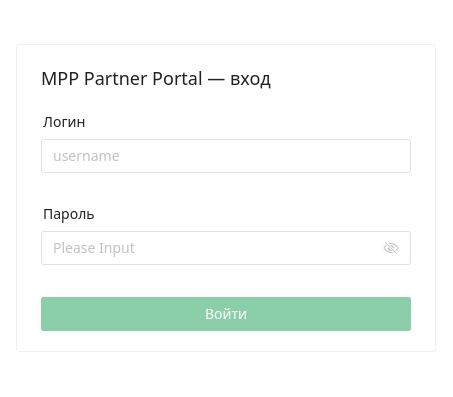
Scenario: LoginView › показывает ошибку и не сохраняет токен при неверных кредах
In the field with placeholder "username": (226, 156) [53, 139, 399, 173], type "acme-bob"
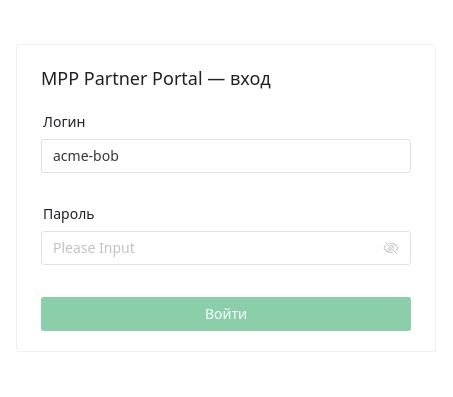
In the password field: (216, 248) [53, 231, 379, 265], type "wrong"
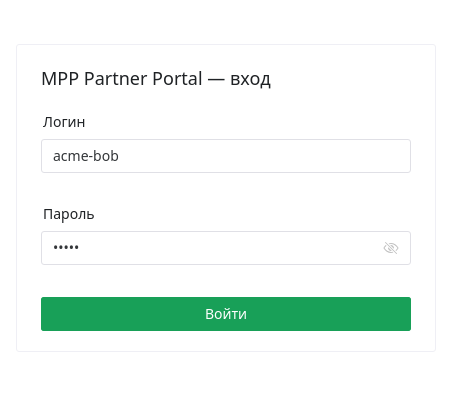
Click the button "Войти": click(226, 314) [41, 297, 411, 331]
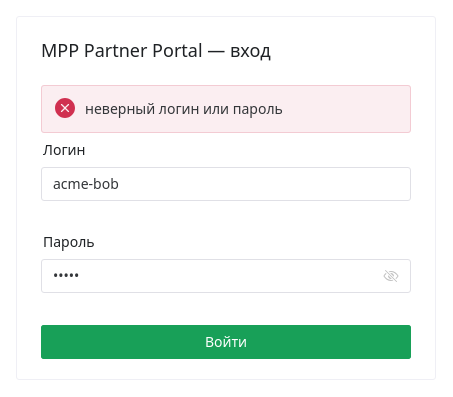
Expected: the text "неверный логин или пароль" is shown, [85, 99, 283, 118]
